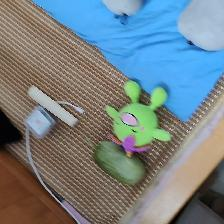gua: (86, 145, 140, 181)
